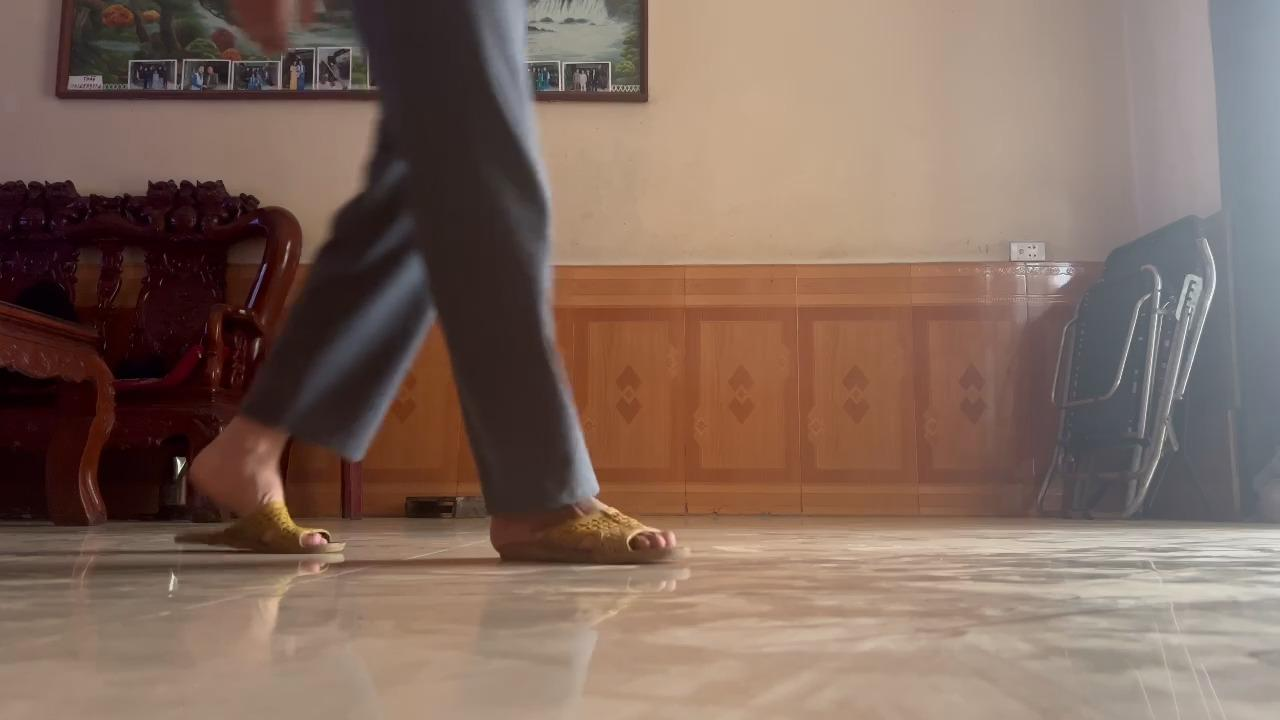no-boot: (170, 439, 354, 560), (483, 503, 685, 572)
